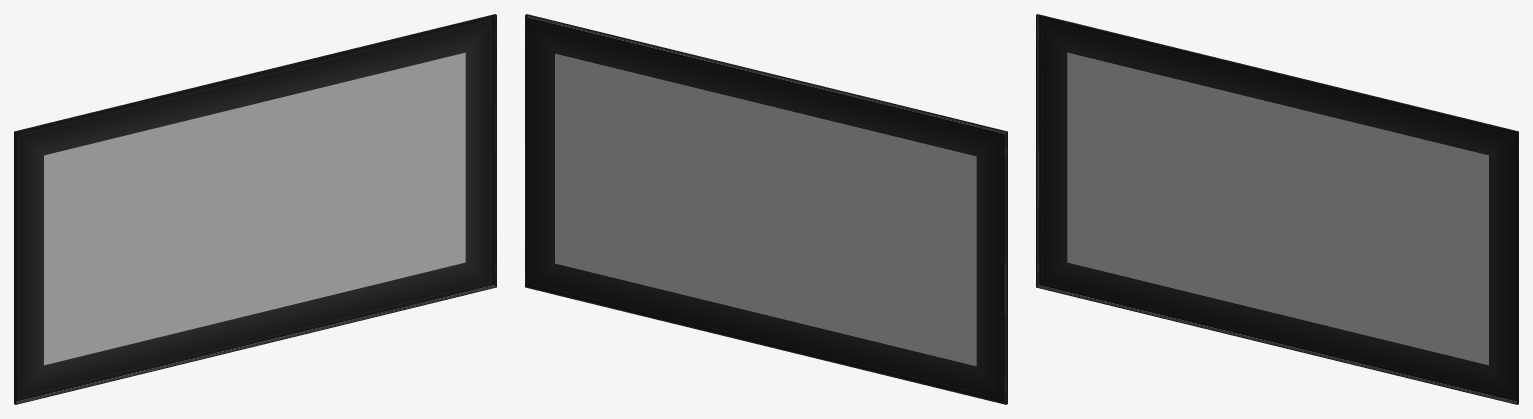
Rendered from Canvas_fix_009.fbx.
3 renders of one model, left to right at view 1: azimuth 30°, elevation 25°; view 2: azimuth 150°, elevation 25°; view 3: azimuth 330°, elevation 25°, orthographic.
Parts seen in each view (by area): view 1: BlueChip_Interior.062; view 2: BlueChip_Interior.062; view 3: BlueChip_Interior.062.
Boxes of the visible parts, x1=… form: BlueChip_Interior.062: x1=14, y1=14, x2=496, y2=404; BlueChip_Interior.062: x1=525, y1=14, x2=1007, y2=404; BlueChip_Interior.062: x1=1036, y1=14, x2=1518, y2=404.
Size of the model in its own units: 322 by 174 by 1.59.
